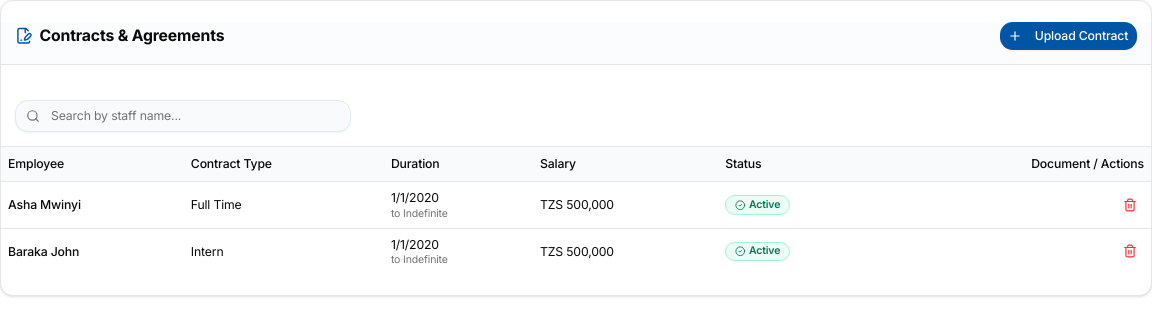
Test: HRContractsSubtab › filters by staff name or contract type
Step 1. Type "intern" into the field with placeholder "Search by staff name..." → (183, 116), box [15,100,351,132]
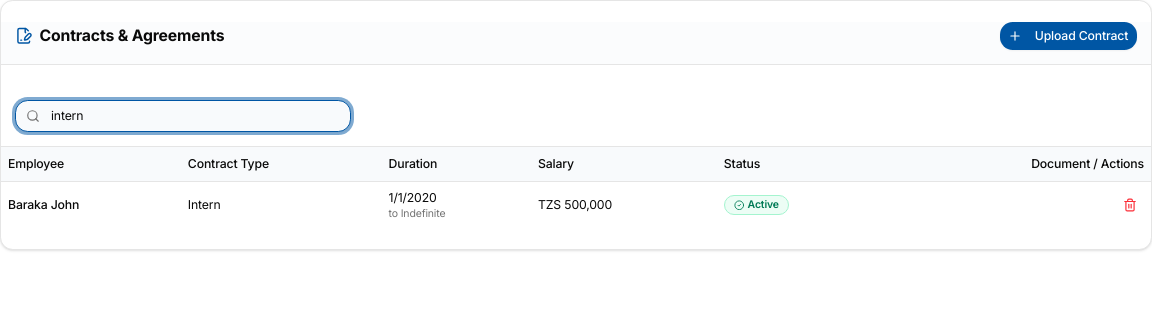
Expected: the text "Baraka John" is shown, [1,182,181,228]
Result: the text "Asha Mwinyi" is gone
